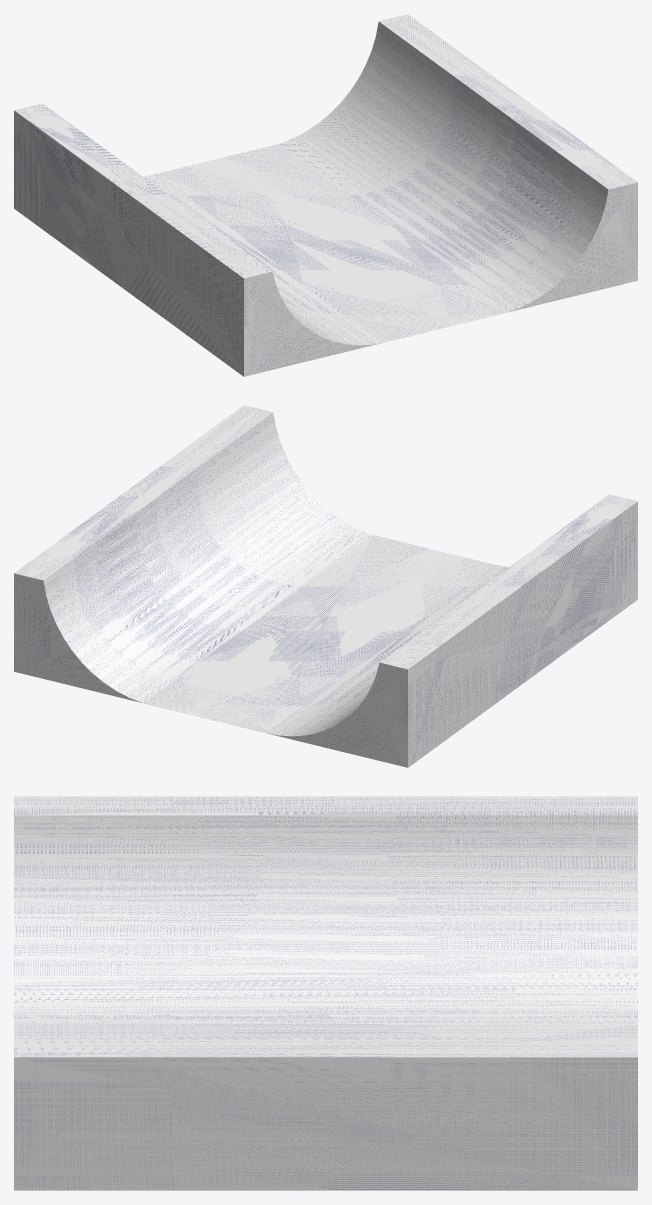
3 renders of one model, top to bottom at view 1: azimuth 30°, elevation 25°; view 2: azimuth 150°, elevation 25°; view 3: azimuth 270°, elevation 25°, orthographic. The views are drawn at different scales.
Visible parts, largest first — view 1: SketchUp; view 2: SketchUp; view 3: SketchUp.
Boxes of the visible parts, <box> form: SketchUp: <box>14,14,637,376</box>; SketchUp: <box>14,405,637,767</box>; SketchUp: <box>14,796,637,1190</box>.
Bounding box in the file's own units: 306 × 310 × 73.13.
